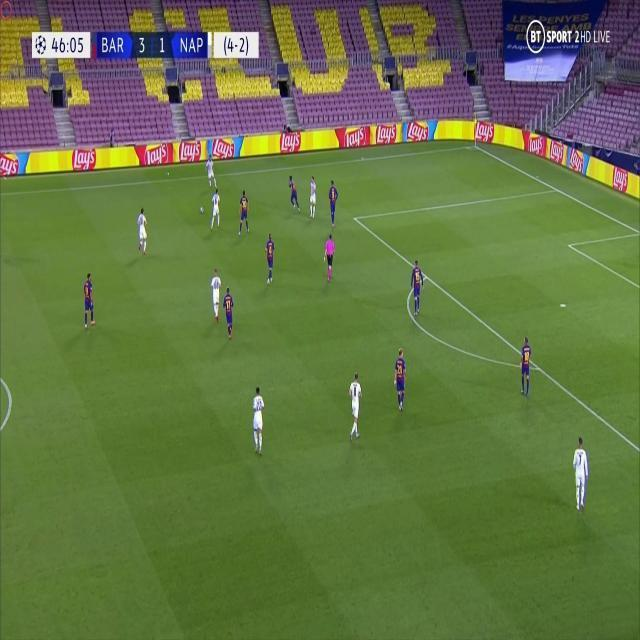ball: (199, 204, 204, 214)
player: (571, 435, 589, 514), (346, 367, 363, 444), (251, 381, 266, 456), (392, 345, 407, 413), (81, 269, 96, 331), (408, 257, 423, 317), (519, 332, 532, 397), (222, 284, 236, 342), (208, 265, 222, 322), (263, 230, 276, 284), (136, 204, 149, 255), (326, 178, 339, 227), (237, 187, 250, 236), (286, 174, 301, 214), (209, 186, 221, 231), (307, 172, 318, 218), (204, 148, 216, 187)
referee: (323, 231, 336, 283)
